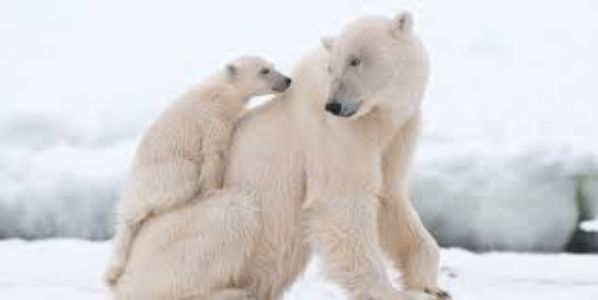bear: (296, 11, 473, 299), (112, 51, 288, 230)
